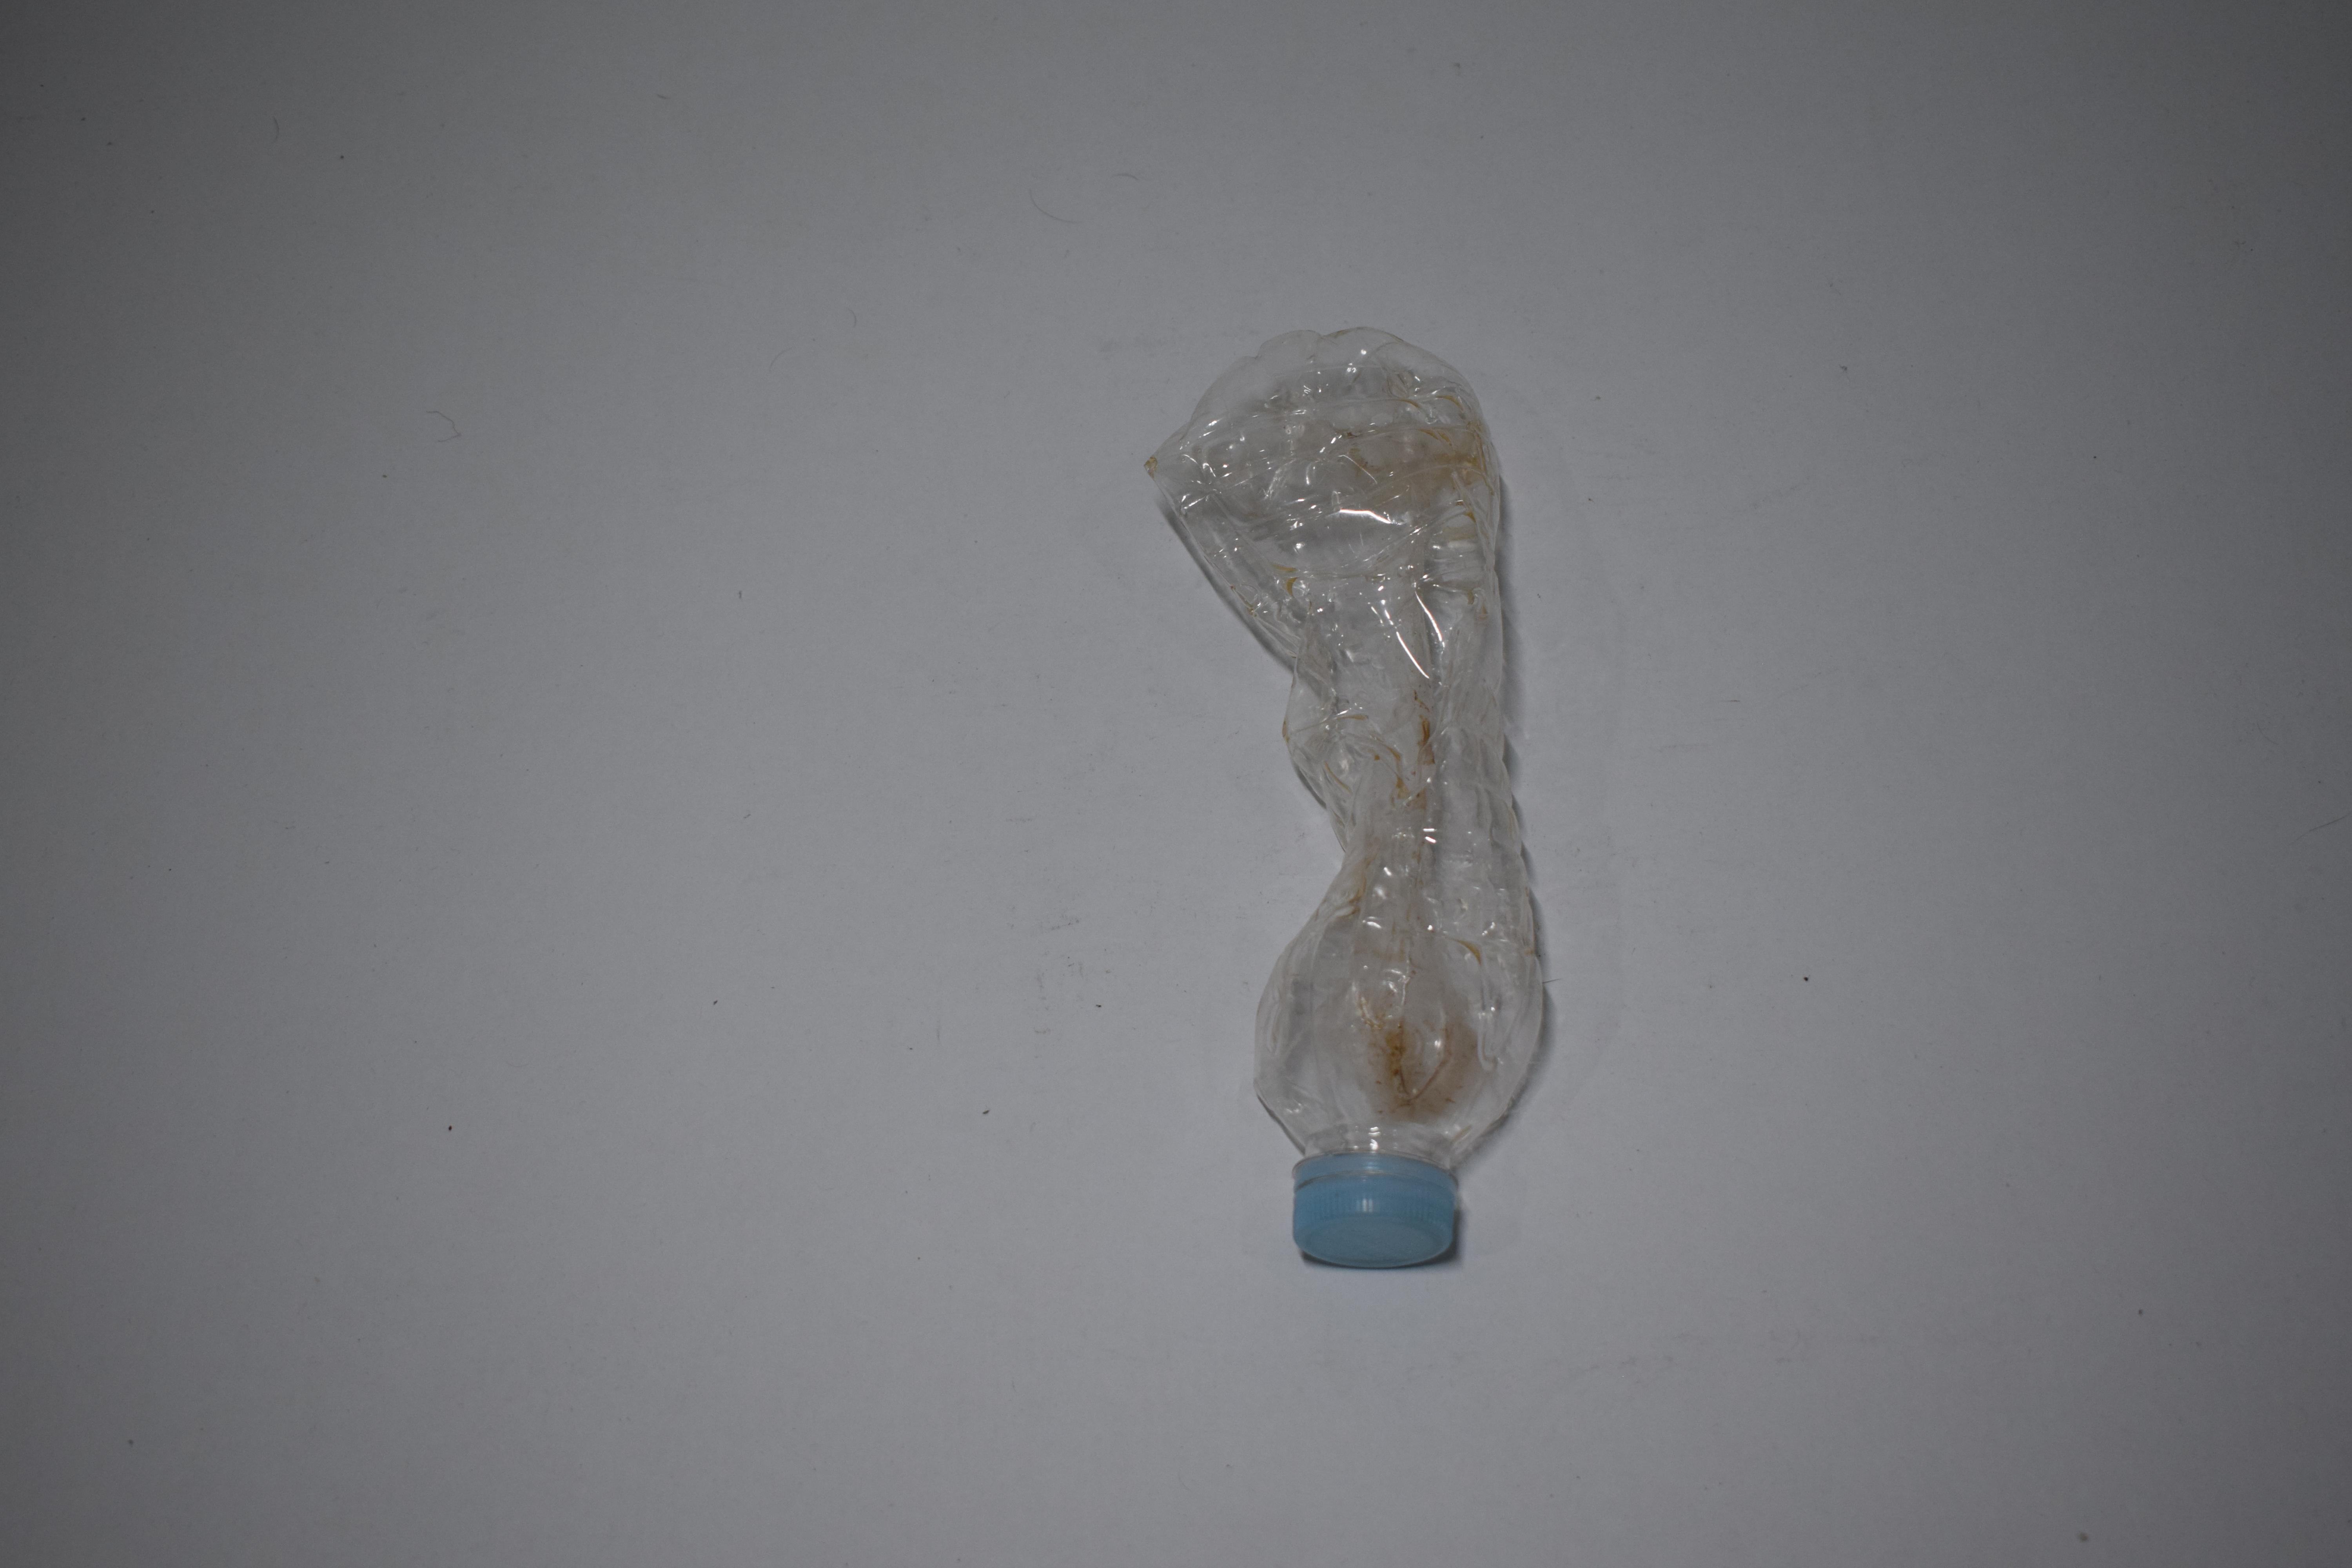bottle: (0, 0, 385, 490)
